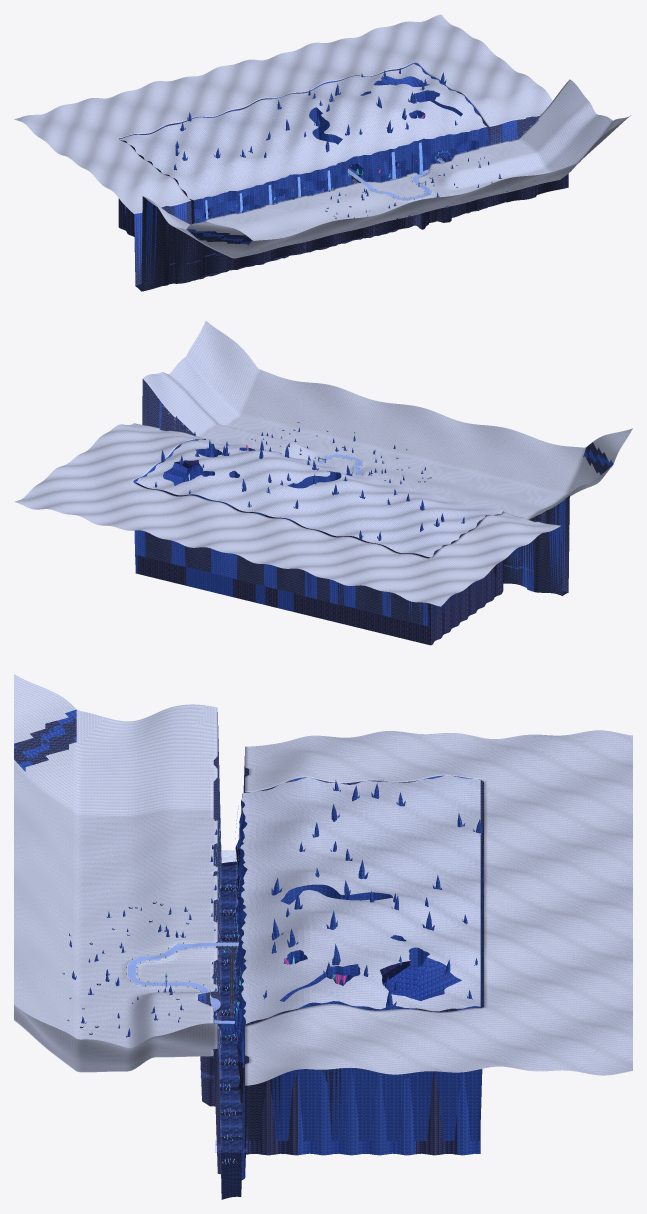
3 views of the same model, one above another, from view 1: azimuth 30°, elevation 25°; view 2: azimuth 150°, elevation 25°; view 3: azimuth 270°, elevation 25° (orthographic). The views are drawn at different scales.
Parts seen in each view (by area): view 1: Land, Glacier; view 2: Land, Glacier; view 3: Land, Glacier.
Part boxes in pixels (box(x1,y1,x2,y2)): Land: box(14, 14, 630, 291); Glacier: box(118, 63, 488, 280); Land: box(14, 320, 632, 626); Glacier: box(135, 439, 503, 645); Land: box(14, 674, 632, 1199); Glacier: box(235, 775, 480, 1155).
Bounding box in the file's own units: 1620 × 467 × 1260.
31 materials, 31 textured.
